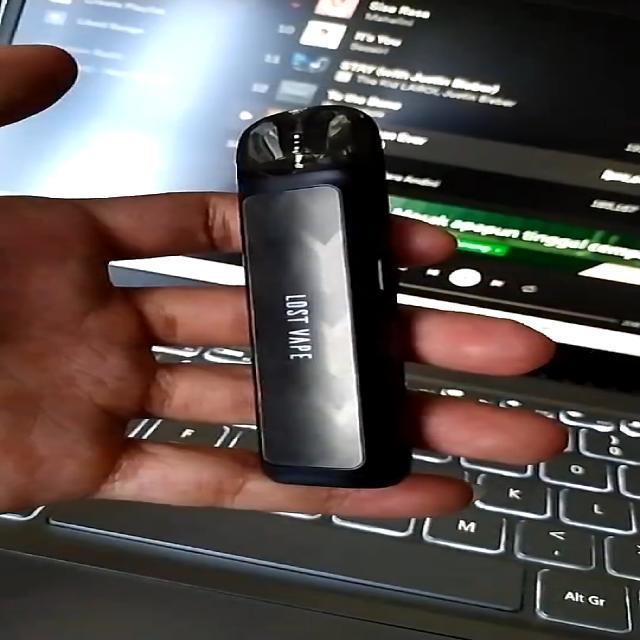Hazard: (237, 107, 418, 486)
